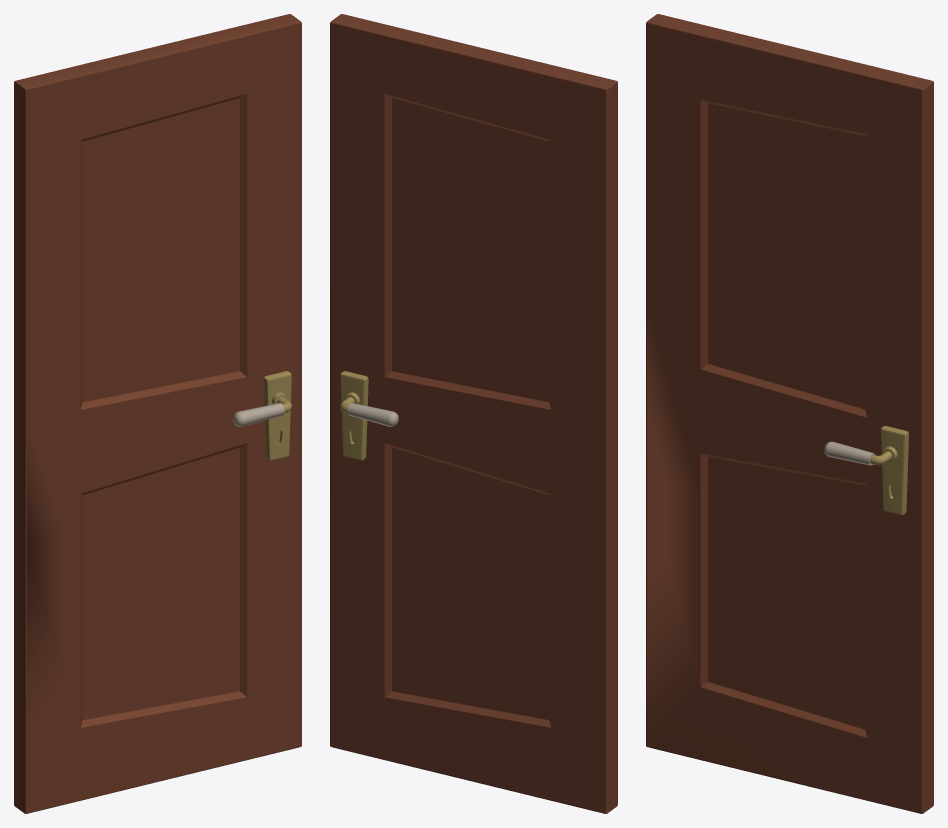
The model's file is Door.glb.
The picture shows the model from 3 angles, left to right: view 1: azimuth 30°, elevation 25°; view 2: azimuth 150°, elevation 25°; view 3: azimuth 330°, elevation 25°; orthographic projection.
Visible parts, largest first — view 1: Door; view 2: Door; view 3: Door.
Part boxes in pixels (x1=…): Door: x1=14, y1=14, x2=301, y2=813; Door: x1=330, y1=14, x2=617, y2=813; Door: x1=646, y1=14, x2=933, y2=813.
Size of the model in its own units: 0.8 by 2 by 0.2437.
1 material, 1 textured.
